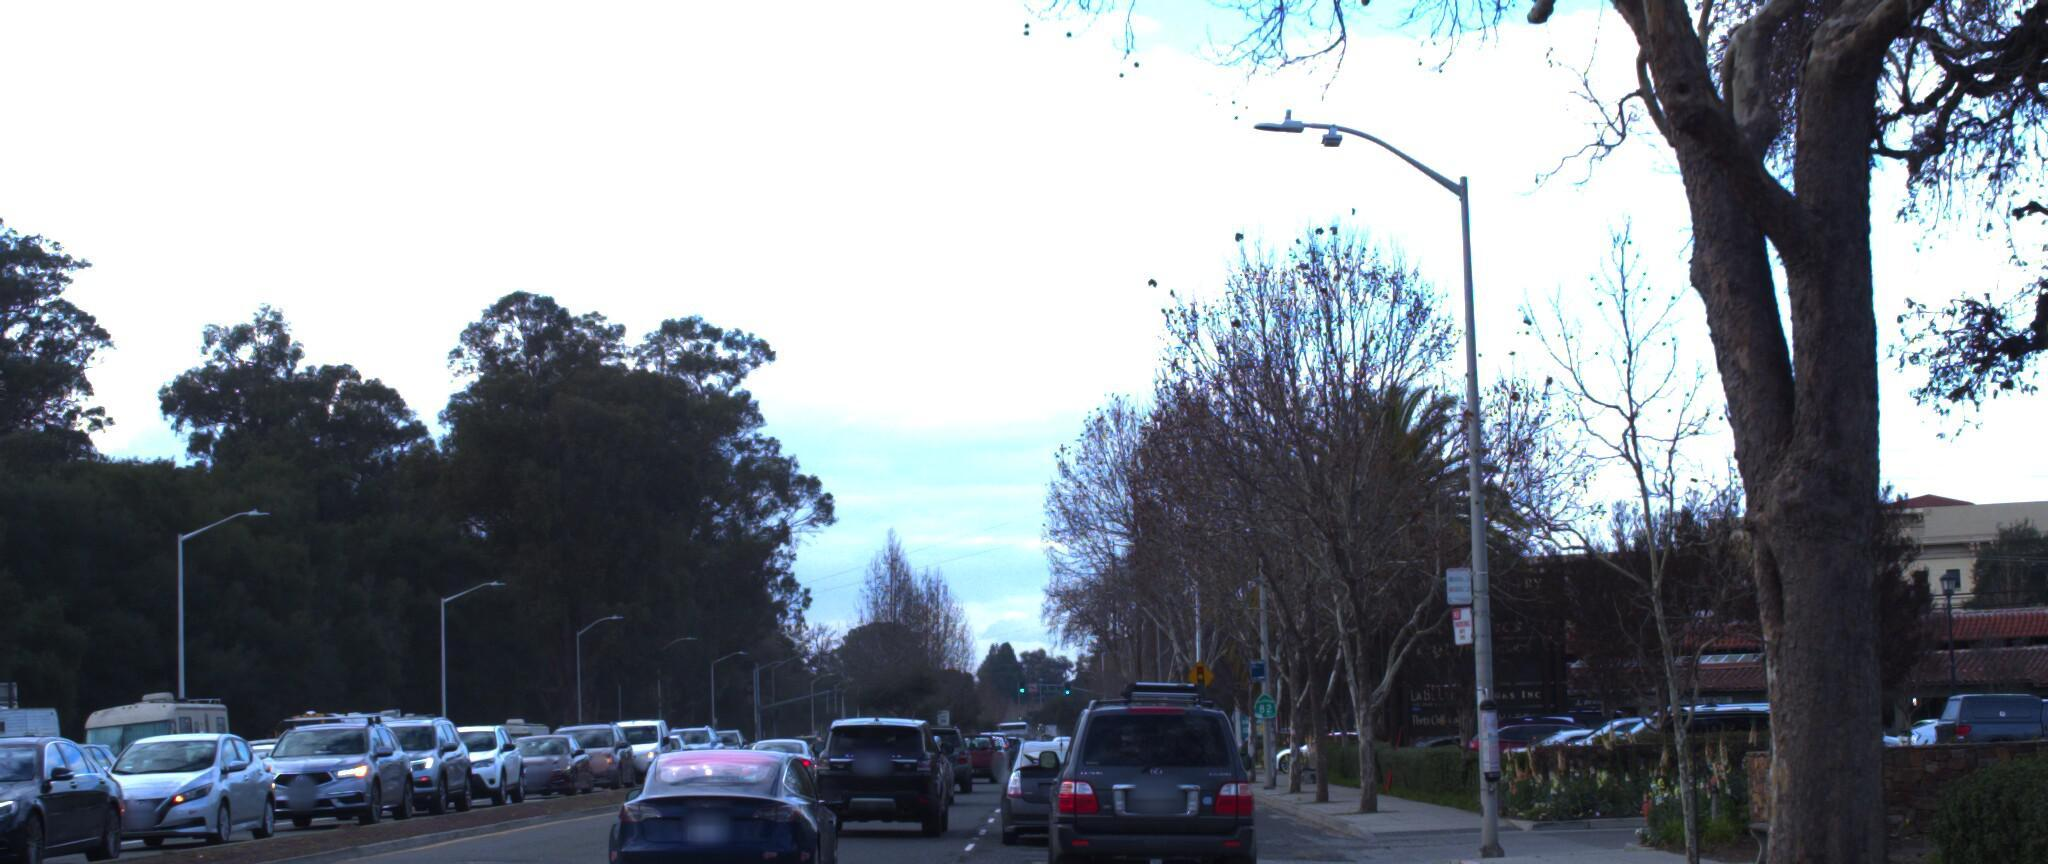bus: (0, 656, 172, 810)
car: (1051, 666, 1266, 864), (1782, 715, 2048, 848), (605, 733, 849, 864), (81, 728, 293, 847), (252, 700, 421, 824), (0, 728, 148, 864), (807, 698, 950, 827), (976, 727, 1108, 839), (357, 720, 485, 808), (430, 711, 551, 796)
